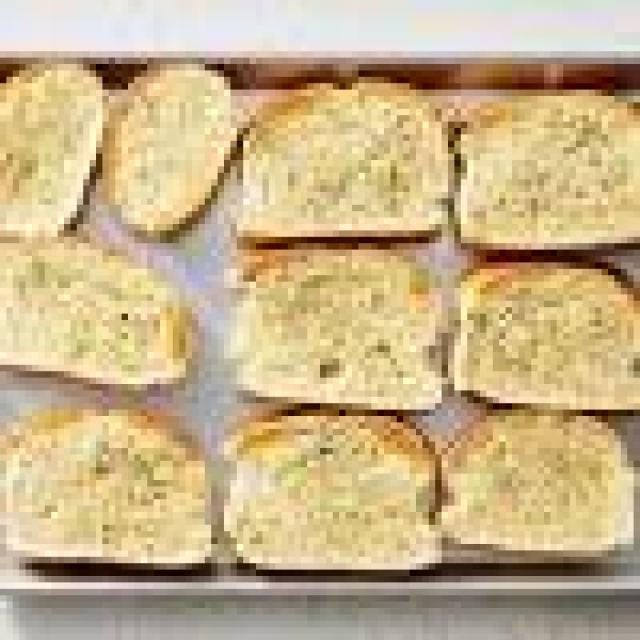Bread: (239, 81, 448, 239), (236, 250, 442, 409), (228, 414, 440, 568), (0, 409, 209, 563), (460, 92, 640, 248), (0, 236, 186, 386), (455, 262, 640, 410), (441, 409, 632, 551)
